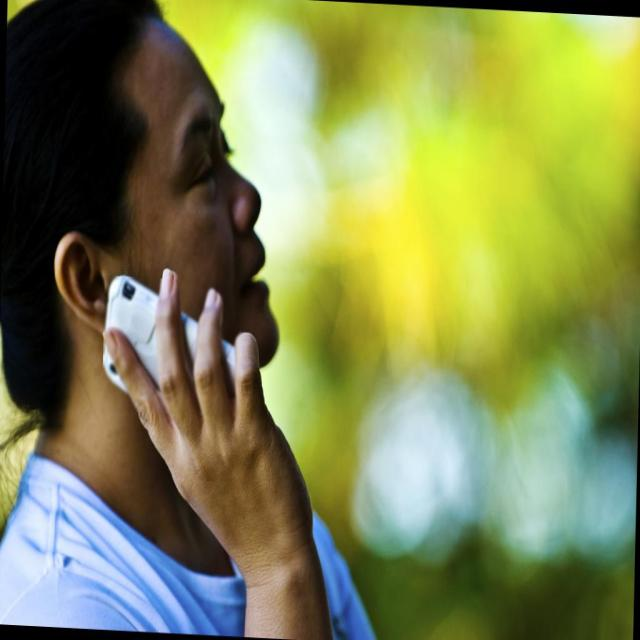phone: (100, 276, 250, 414)
